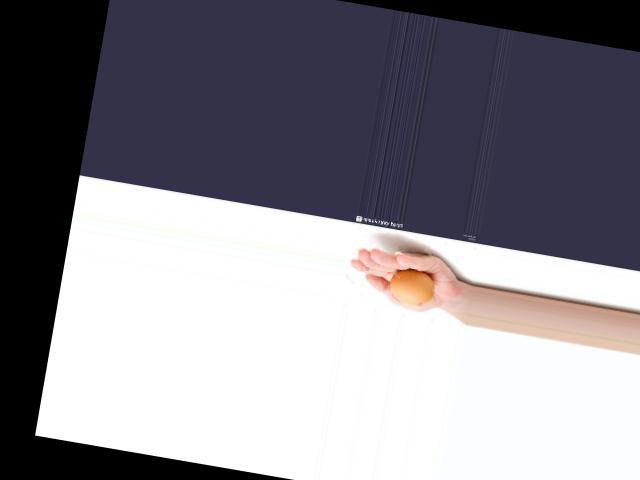egg: (387, 266, 438, 308)
